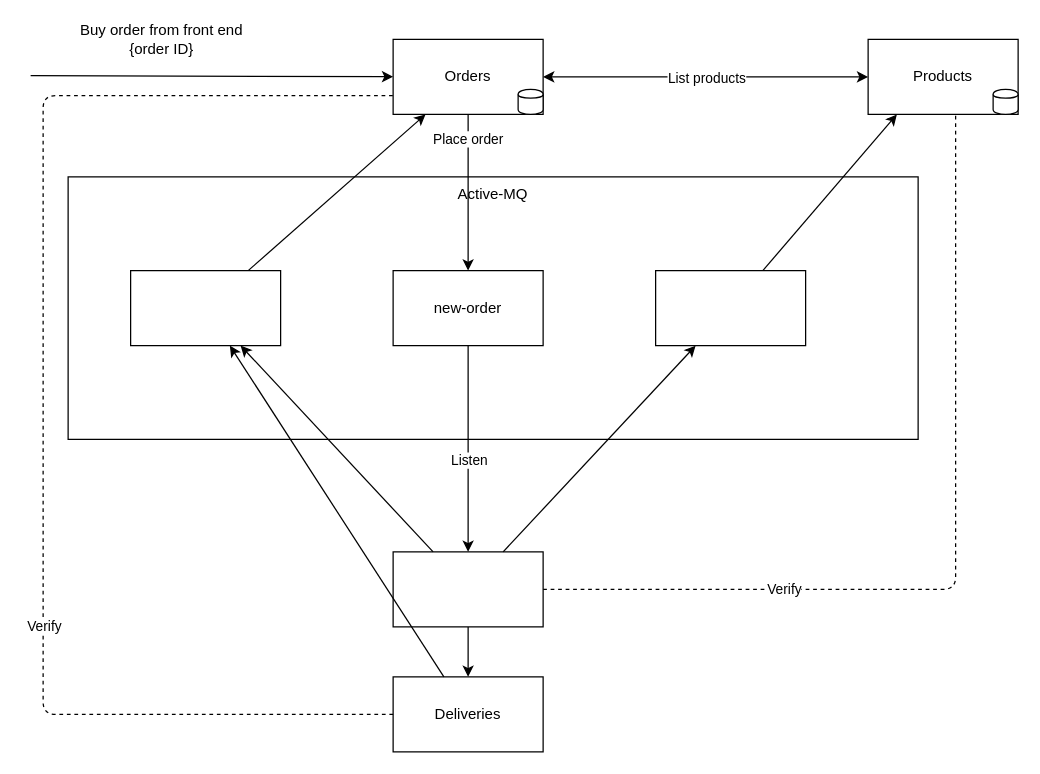
Some shapes in this 1040 by 774 pixel diagram are drawn without their labels. The shapes that lost their labels are listed below. From the top down, each one's centre as x and y in pixels, then its label:
At point 205,307: "order-updates".
At point 730,307: "product-sell".
At point 467,589: "Payment".
